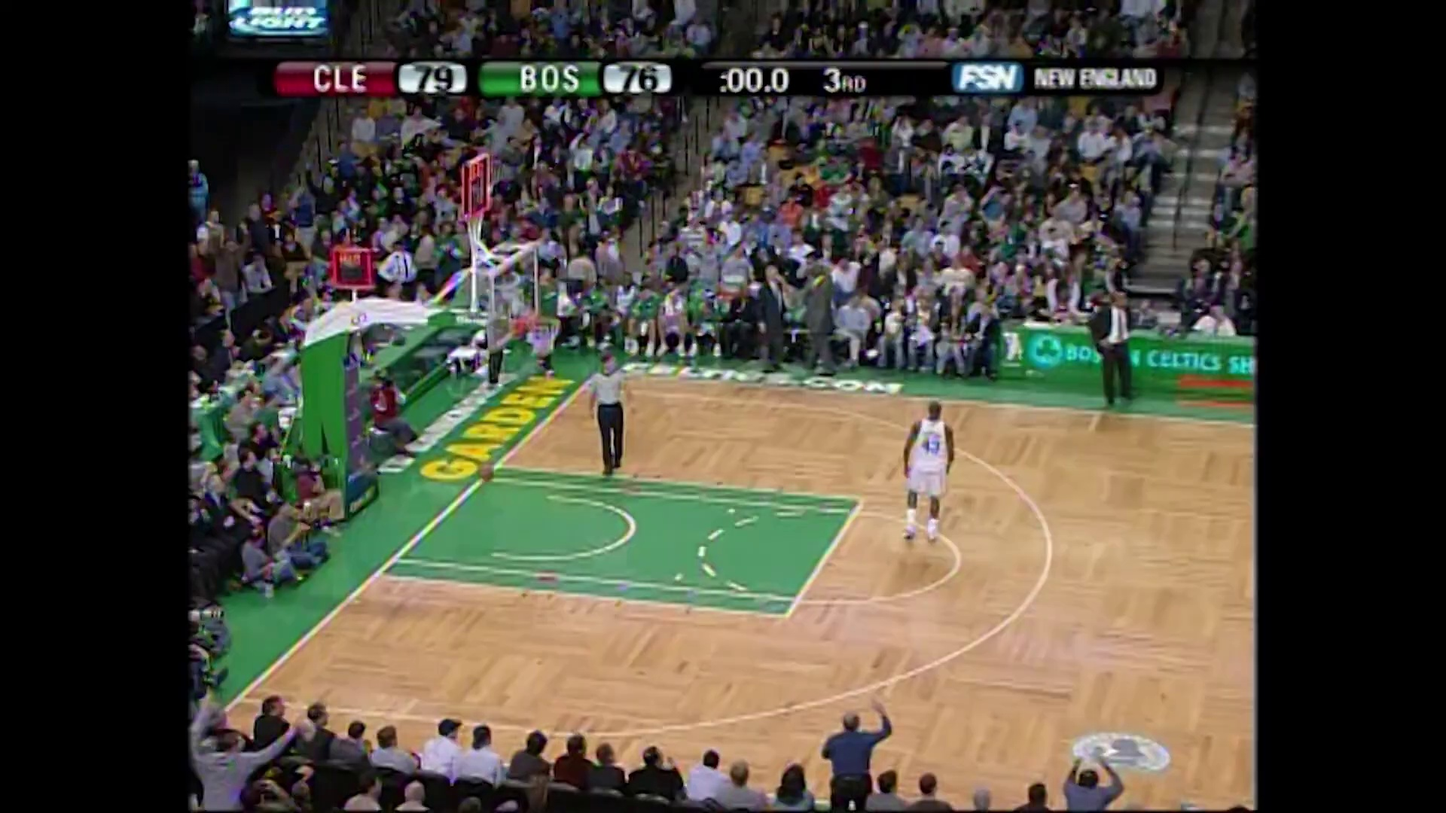basket_hoop: (451, 227, 579, 366)
